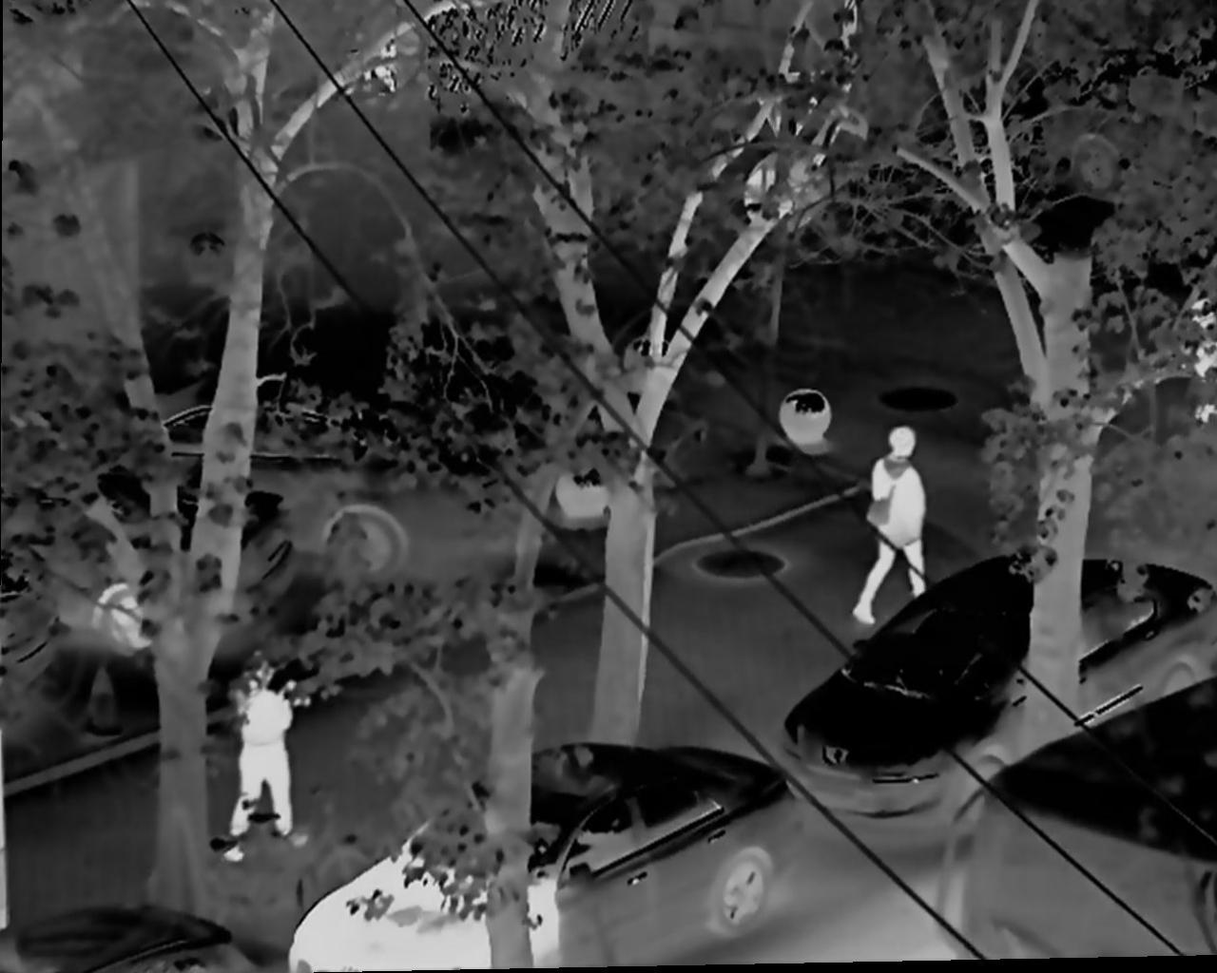person: (850, 425, 924, 627), (226, 692, 309, 856)
